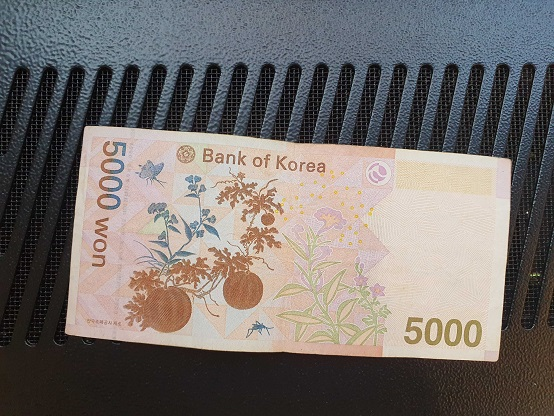5000won: (64, 126, 514, 362)
